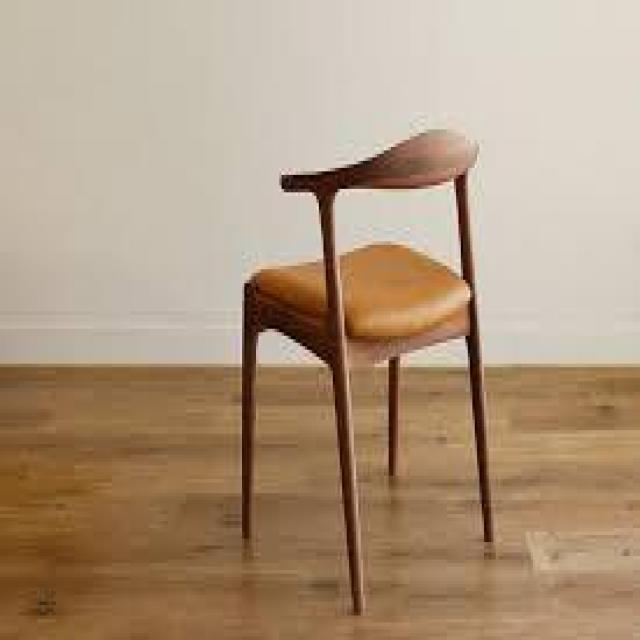chair: (186, 94, 524, 608)
